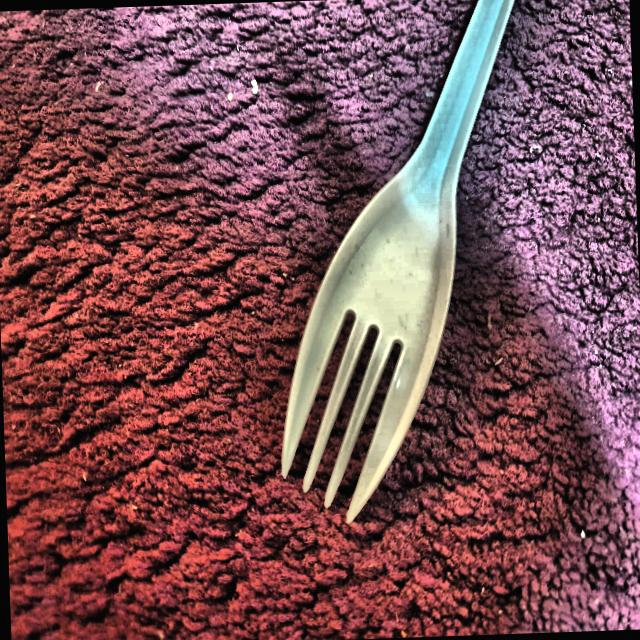plastic utensil: (254, 0, 539, 546)
